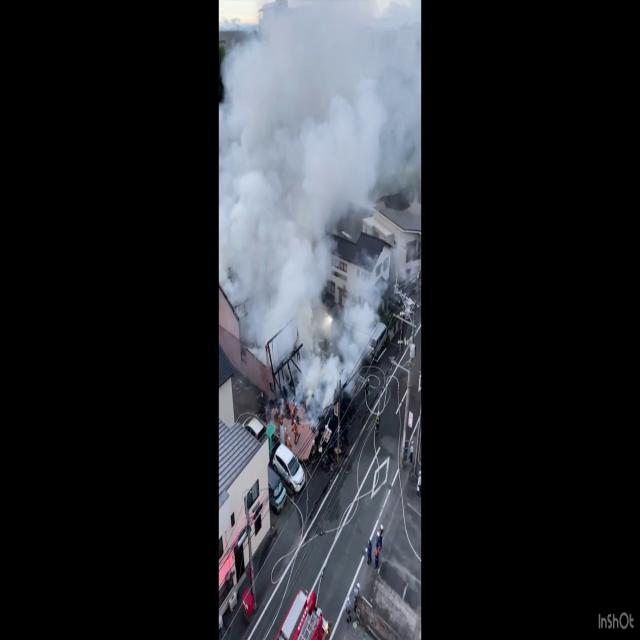Smoke: (219, 0, 421, 382)
